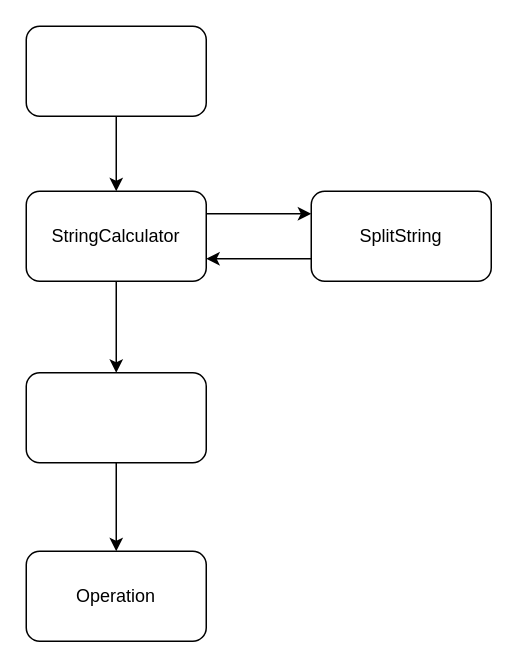
The diagram is 518 pixels wide and 668 high, and some of its shapes have lost their labels. The centre of each missing label's shape, as x and y in pixels:
Number: the point at 115,417
StringCalculatorMain: the point at 115,70
